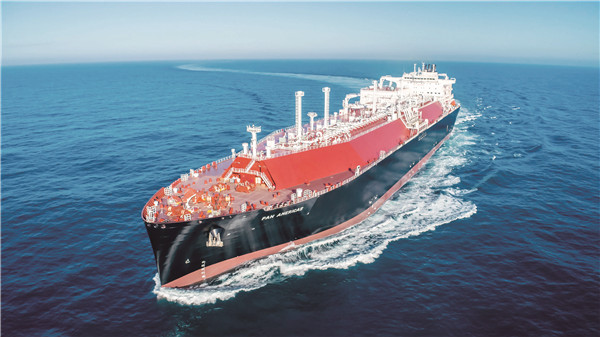Cargoship: (135, 58, 463, 292)
